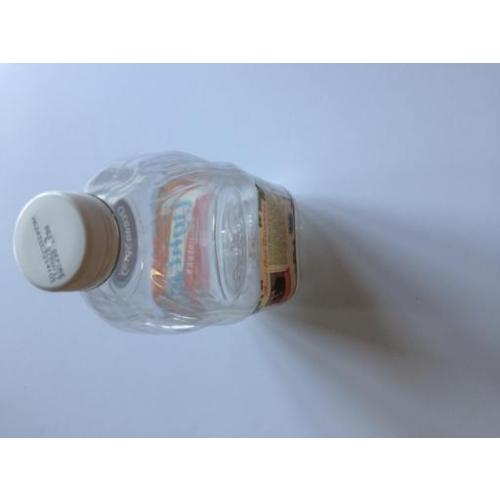plastic: (24, 153, 301, 340)
